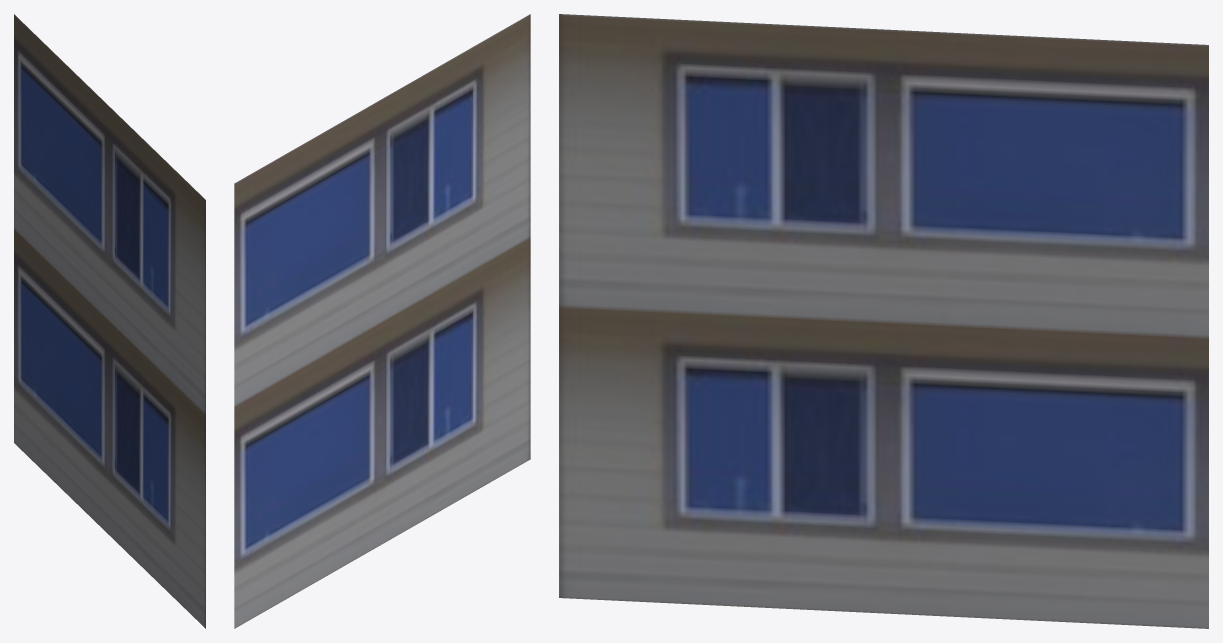
The model's file is ResTex__2633.fbx.
3 views of the same model, side by side, from view 1: azimuth 30°, elevation 25°; view 2: azimuth 150°, elevation 25°; view 3: azimuth 270°, elevation 25° (orthographic). The views are drawn at different scales.
Parts seen in each view (by area): view 1: CityEngineMaterial_23_m; view 2: CityEngineMaterial_23_m; view 3: CityEngineMaterial_23_m.
Part boxes in pixels (x1,y1,x2,y2): CityEngineMaterial_23_m: (14, 14, 205, 628); CityEngineMaterial_23_m: (234, 14, 530, 628); CityEngineMaterial_23_m: (559, 14, 1208, 628).
Bounding box in the file's own units: 0.6828 × 6 × 6.05.
Materials: 1 (1 with a texture image).
